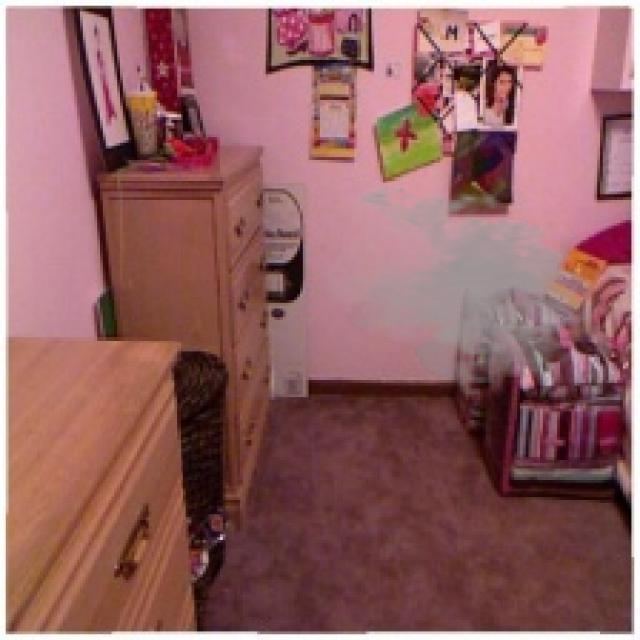Smoke: (317, 180, 600, 400)
